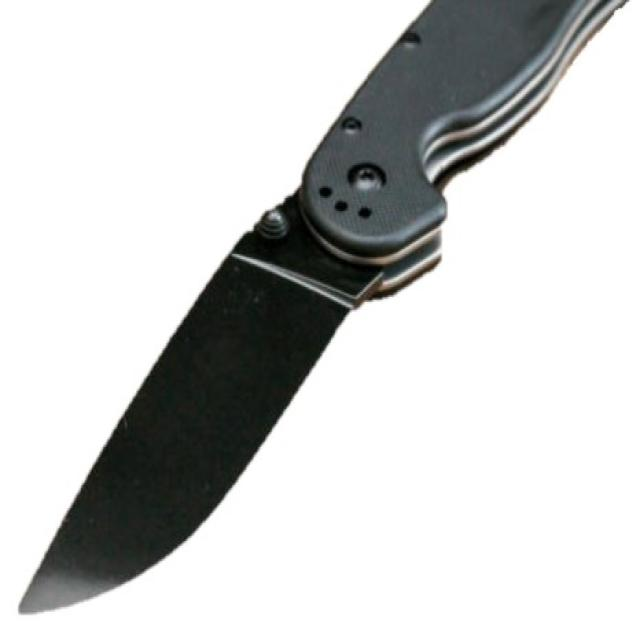knife: (1, 3, 637, 635)
